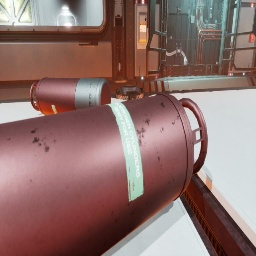FireAlarm ,: (250, 31, 255, 42)
NitrogenTank ,: (0, 93, 208, 256), (30, 77, 111, 115)
SafetySwitchPanel ,: (137, 5, 149, 49)
